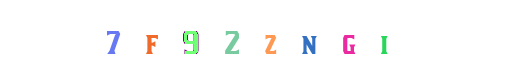2: (207, 0, 287, 80)
7: (116, 0, 196, 80)
9: (197, 0, 277, 80)
F: (167, 0, 247, 80)
G: (269, 0, 349, 80)
I: (281, 0, 361, 80)
N: (220, 0, 300, 80)
Z: (209, 0, 289, 80)
